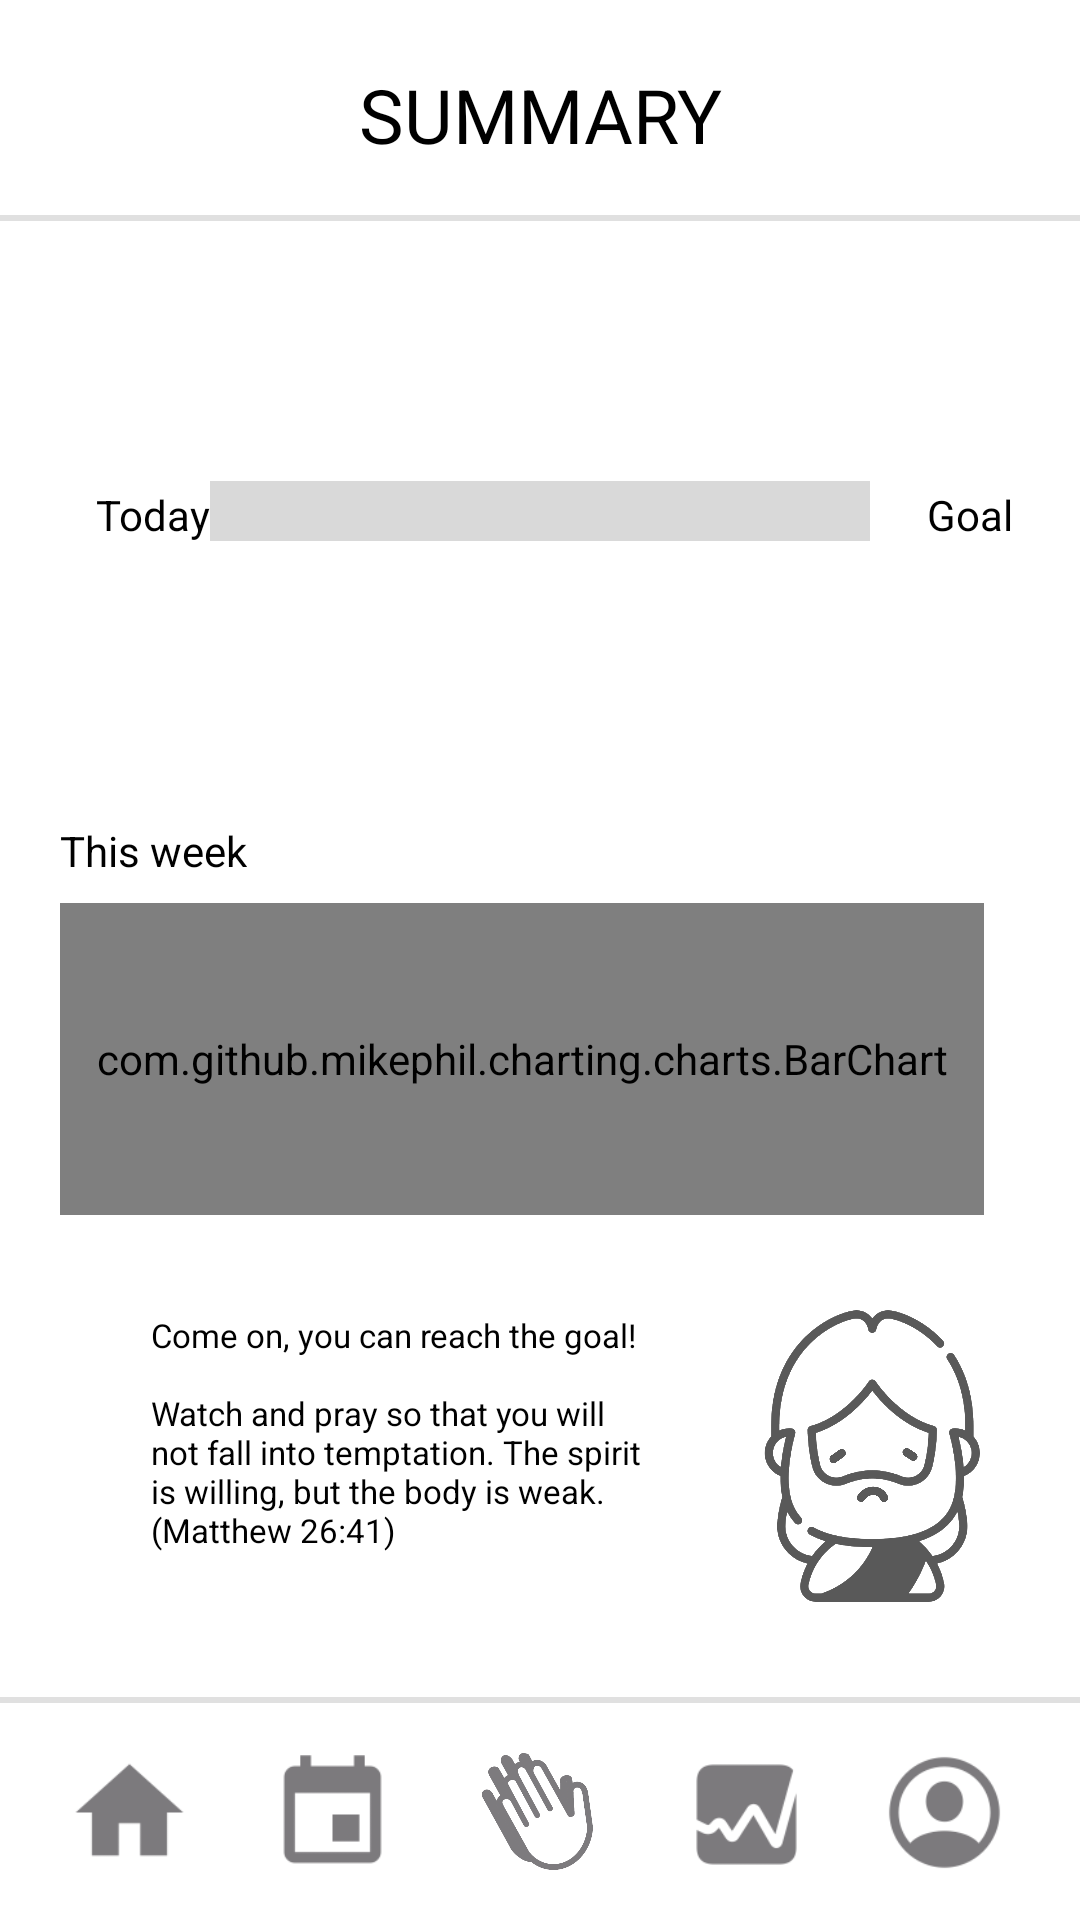

Locate icon controls on the screen. Image size 1080x1920, boxes as {"left": x1, "top": y1, "right": x2, "bottom": y2}.
calendarbutton: {"left": 283, "top": 1755, "right": 382, "bottom": 1864}
homebutton: {"left": 76, "top": 1764, "right": 183, "bottom": 1856}
mypagebutton: {"left": 889, "top": 1757, "right": 1000, "bottom": 1868}
praybutton: {"left": 482, "top": 1753, "right": 593, "bottom": 1870}
sad Jesus: {"left": 764, "top": 1310, "right": 980, "bottom": 1602}
summarybutton: {"left": 696, "top": 1764, "right": 797, "bottom": 1865}
